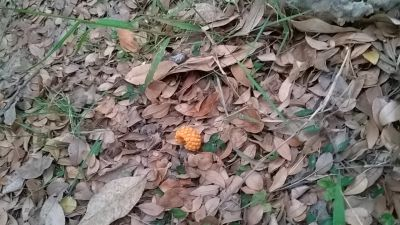eggs: (173, 124, 203, 151)
